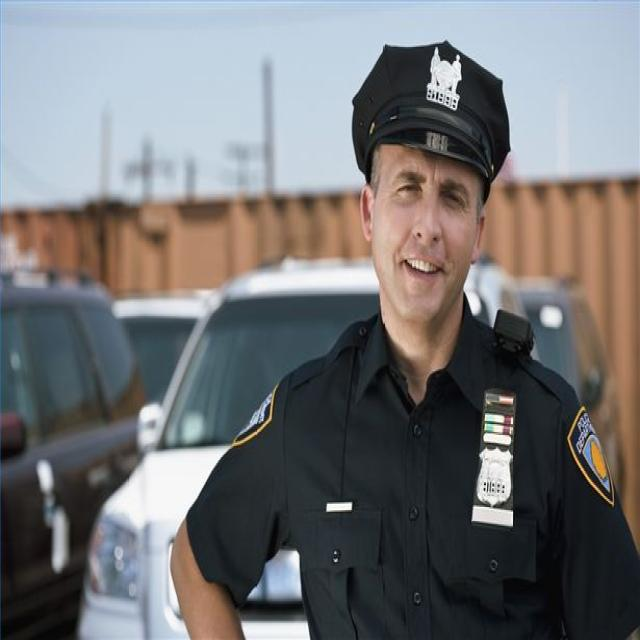police: (193, 28, 640, 640)
